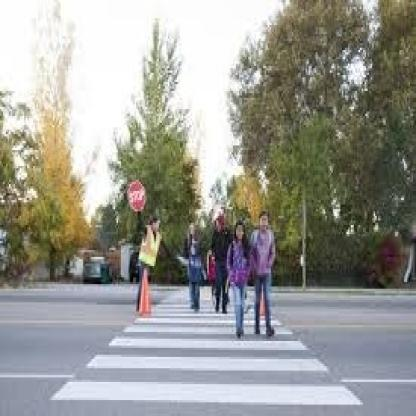Crosswalk: (23, 285, 363, 408)
